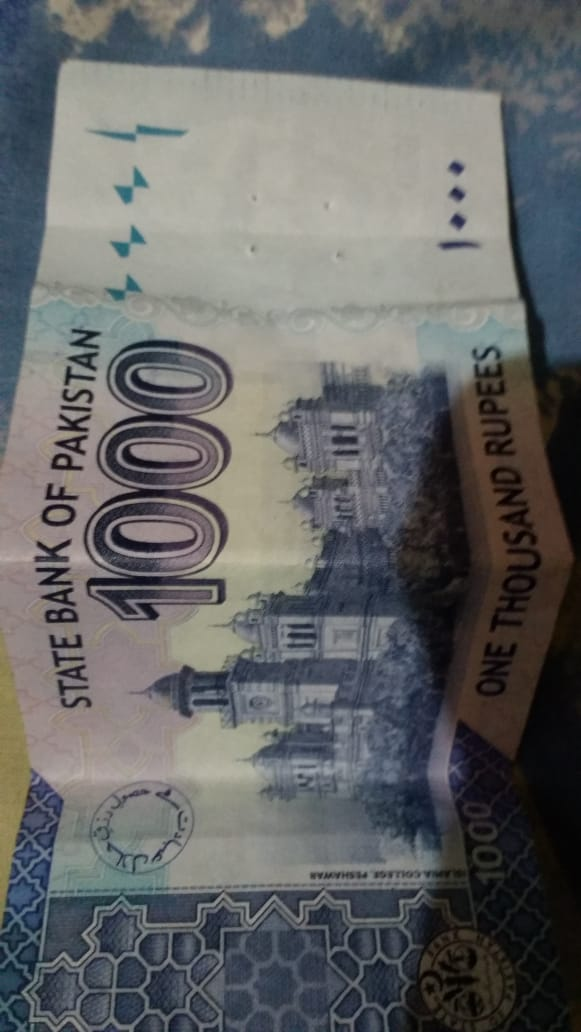1000 rupee: (12, 55, 545, 1030)
